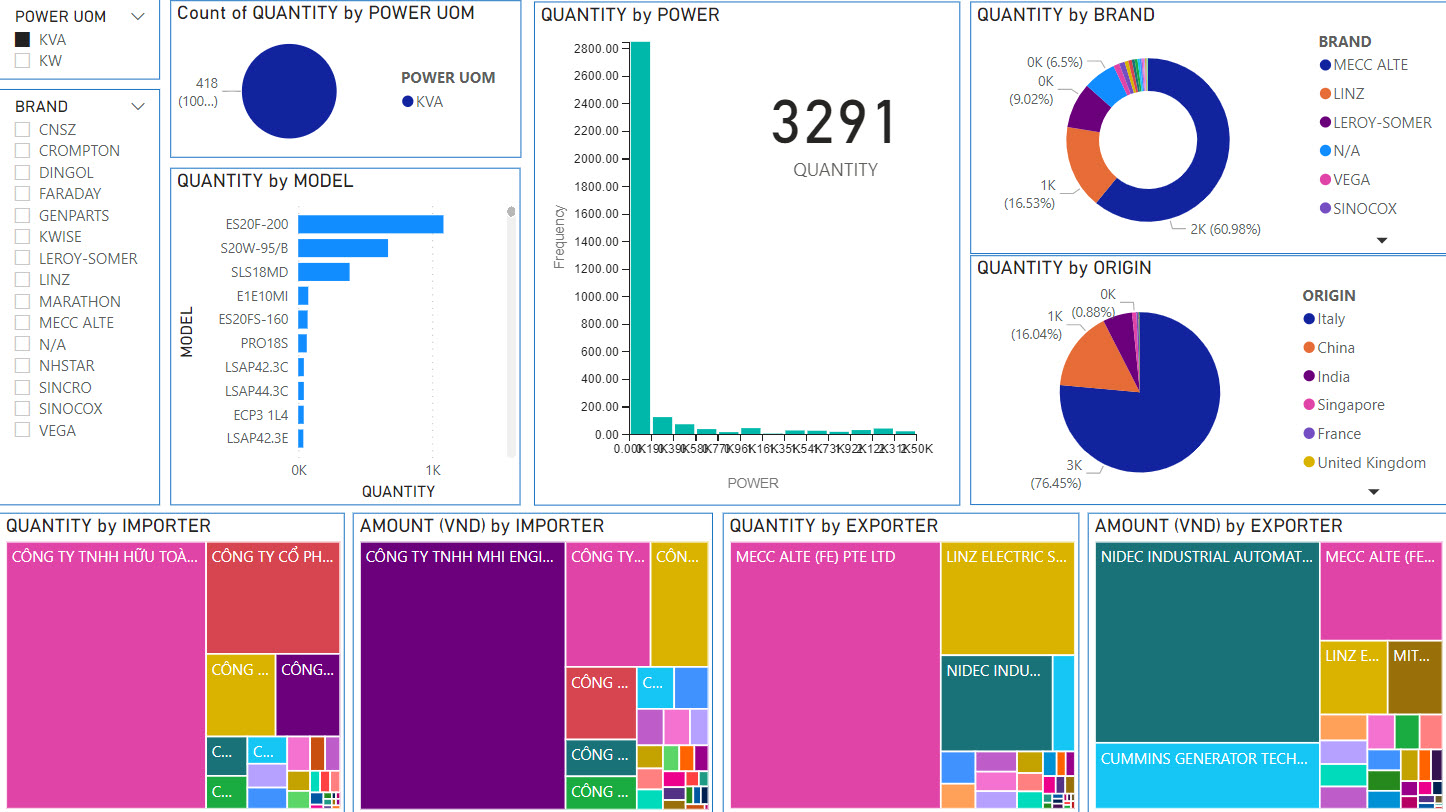

What the dashboard file says about the page in this screenshot:
{"tool":"powerbi","page":{"name":"Page 1","canvas":[1280,720],"ordinal":0},"visuals":[{"type":"donutChart","fields":{"Category":["Table4.BRAND"],"Y":["Sum(Table4.QUANTITY)"]},"box":[858.2,1.8,421.8,222.8],"z":0},{"type":"pieChart","fields":{"Category":["Table4.POWER UOM"],"Y":["CountNonNull(Table4.QUANTITY)"]},"box":[150.8,1,310,139.3],"z":1000},{"type":"treemap","fields":{"Group":["Table4.IMPORTER"],"Values":["Sum(Table4.QUANTITY)"]},"box":[0,454,305.7,265.2],"z":2000},{"type":"slicer","fields":{"Values":["Table4.POWER UOM"]},"box":[0,0,142.5,71.2],"z":3000},{"type":"treemap","fields":{"Values":["Sum(Table4.AMOUNT (VND))"],"Group":["Table4.IMPORTER"]},"box":[313.1,454,318.6,266.1],"z":4000},{"type":"treemap","fields":{"Group":["Table4.EXPORTER"],"Values":["Sum(Table4.QUANTITY)"]},"box":[640,454,314.9,265.2],"z":5000},{"type":"treemap","fields":{"Group":["Table4.EXPORTER"],"Values":["Sum(Table4.AMOUNT (VND))"]},"box":[962.3,454,317.7,265.2],"z":6000},{"type":"clusteredBarChart","fields":{"Category":["Table4.MODEL"],"Y":["Sum(Table4.QUANTITY)"]},"box":[151,149.2,309.4,298.4],"z":7000},{"type":"slicer","fields":{"Values":["Table4.BRAND"]},"box":[0,79.2,142.7,368.3],"z":8000},{"type":"pieChart","fields":{"Category":["Table4.ORIGIN"],"Y":["Sum(Table4.QUANTITY)"]},"box":[858.2,226.5,421.8,221],"z":9000},{"type":"Histogram1445664487616","fields":{"Values":["Table4.POWER"],"Frequency":["Sum(Table4.QUANTITY)"]},"box":[472.4,1.8,376.6,445.7],"z":10000},{"type":"card","fields":{"Values":["Sum(Table4.QUANTITY)"]},"box":[651.8,54.6,175.7,116.5],"z":11000}]}

Visuals, with their boxes in screenshot pixels (x1, y1, x2, y2), scaled from the page's 1280x720 canvas onto the 1446x812 screenshot:
donutChart - Table4.BRAND x Sum(Table4.QUANTITY): region(969, 2, 1445, 253)
pieChart - Table4.POWER UOM x CountNonNull(Table4.QUANTITY): region(170, 1, 521, 158)
treemap - Table4.IMPORTER x Sum(Table4.QUANTITY): region(0, 512, 345, 811)
slicer - Table4.POWER UOM: region(0, 0, 161, 80)
treemap - Sum(Table4.AMOUNT (VND)) x Table4.IMPORTER: region(354, 512, 714, 811)
treemap - Table4.EXPORTER x Sum(Table4.QUANTITY): region(723, 512, 1079, 811)
treemap - Table4.EXPORTER x Sum(Table4.AMOUNT (VND)): region(1087, 512, 1445, 811)
clusteredBarChart - Table4.MODEL x Sum(Table4.QUANTITY): region(171, 168, 520, 505)
slicer - Table4.BRAND: region(0, 89, 161, 505)
pieChart - Table4.ORIGIN x Sum(Table4.QUANTITY): region(969, 255, 1445, 505)
Histogram1445664487616 - Table4.POWER x Sum(Table4.QUANTITY): region(534, 2, 959, 505)
card - Sum(Table4.QUANTITY): region(736, 62, 935, 193)
